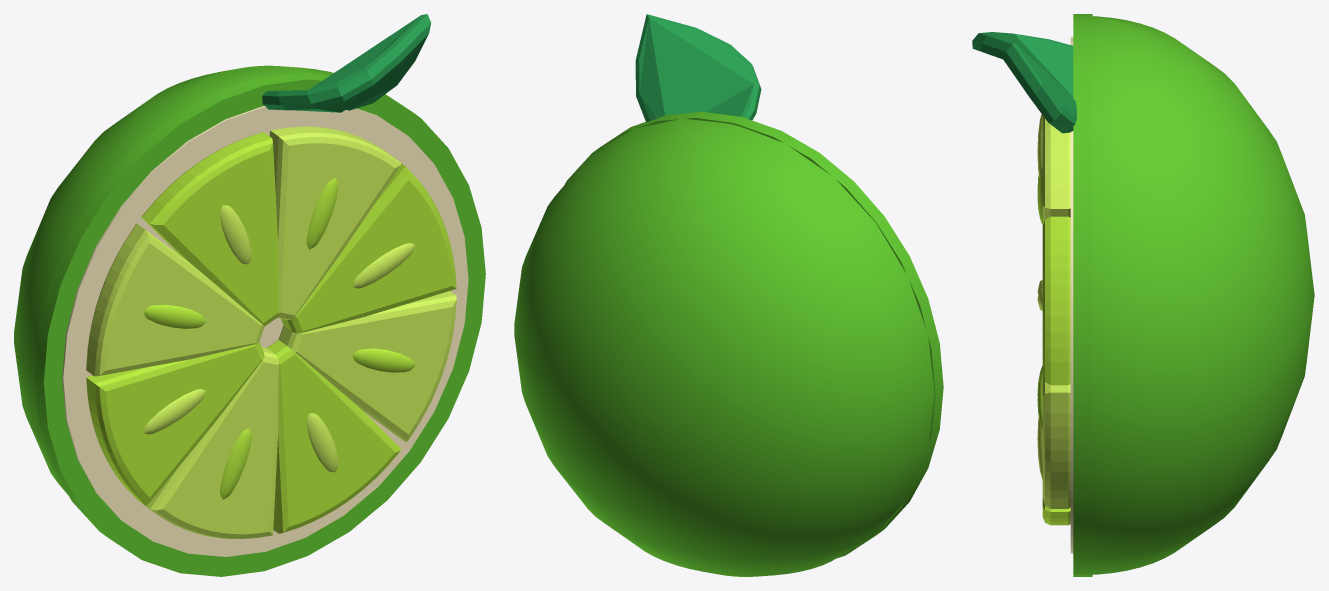
The model's file is lime.glb.
The picture shows the model from 3 angles, left to right: view 1: azimuth 30°, elevation 25°; view 2: azimuth 150°, elevation 25°; view 3: azimuth 270°, elevation 25°; orthographic projection. The views are drawn at different scales.
Visible parts, largest first — view 1: lime-pulp, lime-pulpLight, lime-lime, lime-pith, lime-leaf; view 2: lime-lime, lime-leaf; view 3: lime-lime, lime-pulpLight, lime-pulp, lime-leaf, lime-pith.
Boxes of the visible parts, x1,y1,x2,y2 form: lime-pulp: (86, 132, 456, 533); lime-pulpLight: (86, 126, 456, 538); lime-lime: (14, 65, 485, 576); lime-pith: (62, 106, 468, 556); lime-leaf: (262, 14, 431, 112); lime-lime: (514, 111, 943, 576); lime-leaf: (635, 14, 761, 121); lime-lime: (1073, 14, 1314, 576); lime-pulpLight: (1037, 114, 1070, 508); lime-pulp: (1037, 168, 1070, 525); lime-leaf: (972, 32, 1076, 133); lime-pith: (1070, 37, 1073, 553).
Size of the model in its own units: 1.68 by 1.98 by 1.06.
